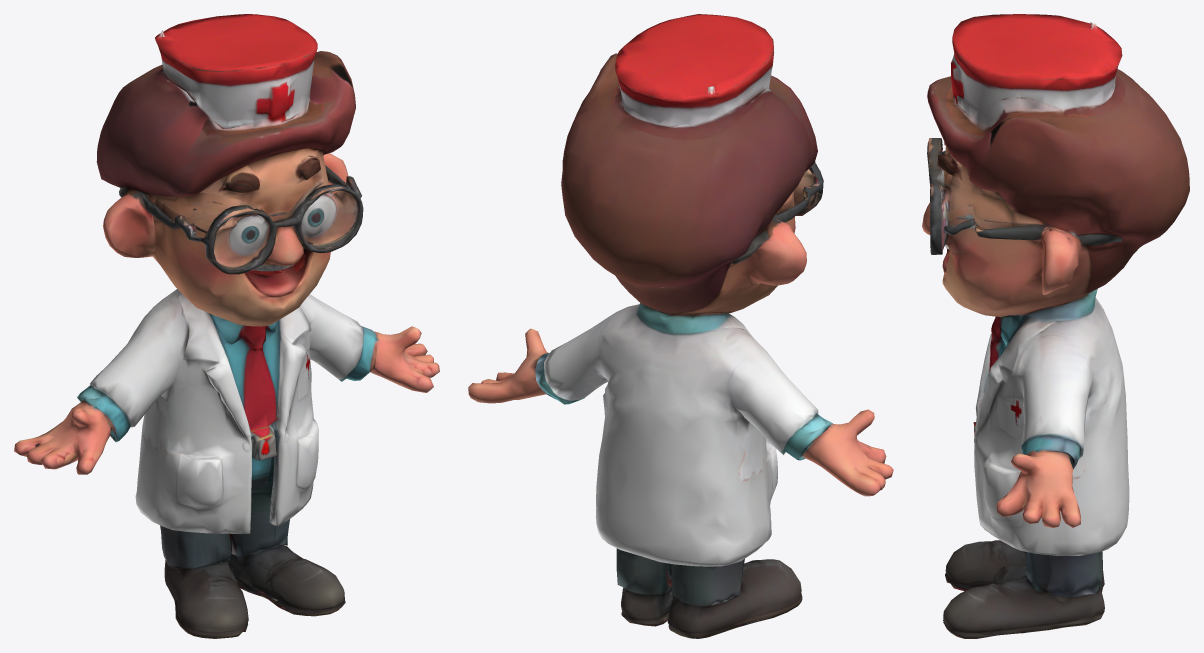
The model's file is Cheerful_Doctor_Carto_0421133620_texture.glb.
3 renders of one model, left to right at view 1: azimuth 30°, elevation 25°; view 2: azimuth 150°, elevation 25°; view 3: azimuth 270°, elevation 25°, orthographic.
Bounding box in the file's own units: 1.53 × 2 × 0.8549.
1 material, 1 textured.
